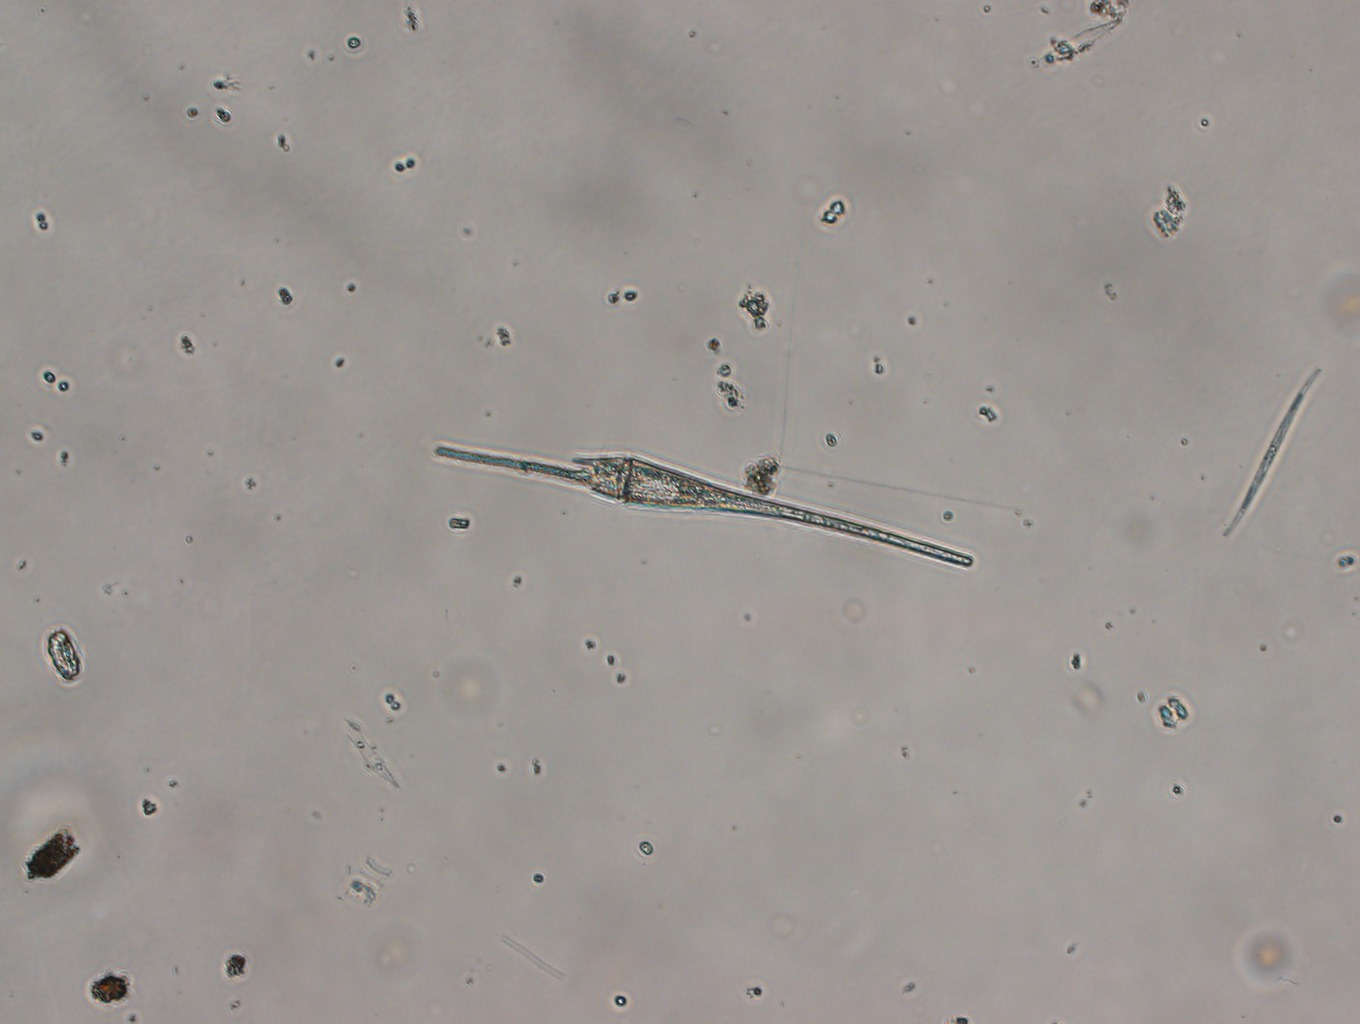ceratium fusus: (430, 442, 977, 569)
